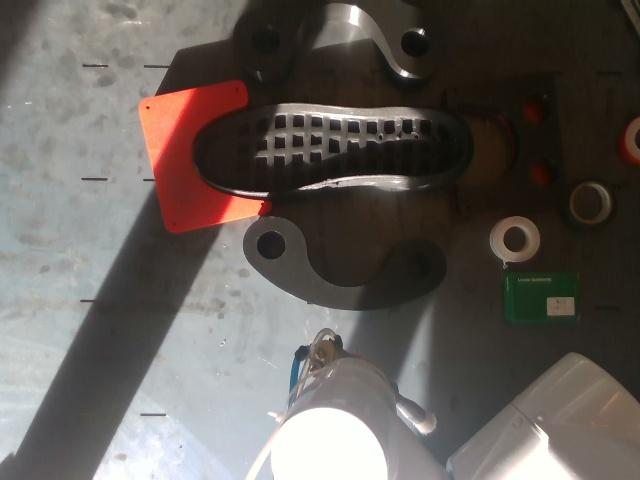shoes: (196, 103, 468, 191)
